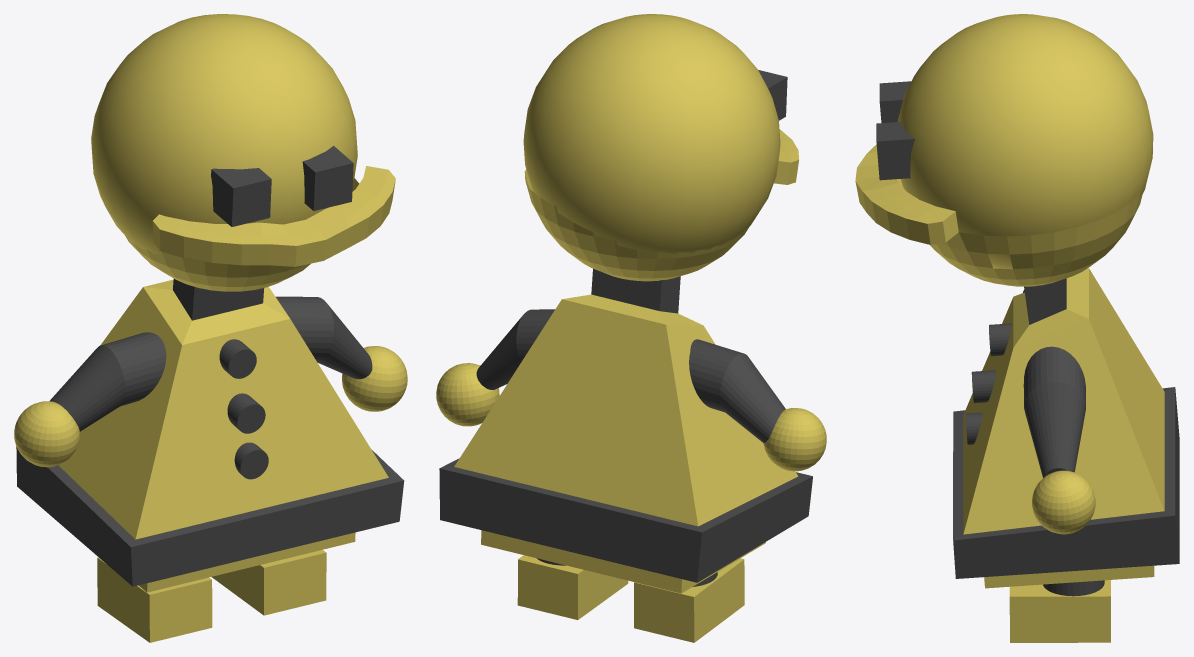
The model's file is characterAnimation.fbx.
3 views of the same model, side by side, from view 1: azimuth 30°, elevation 25°; view 2: azimuth 150°, elevation 25°; view 3: azimuth 270°, elevation 25° (orthographic). The views are drawn at different scales.
Parts seen in each view (by area): view 1: Torso, Head, RghtArm, LeftArm, RIghtLeg, LeftLeg; view 2: Torso, Head, RghtArm, RIghtLeg, LeftArm, LeftLeg; view 3: Head, Torso, LeftArm, LeftLeg.
Part boxes in pixels (box(x1,y1,x2,y2)): Torso: box(16, 279, 404, 592); Head: box(91, 14, 395, 291); RghtArm: box(14, 332, 166, 467); LeftArm: box(276, 296, 407, 411); RIghtLeg: box(97, 557, 212, 642); LeftLeg: box(212, 550, 326, 615); Torso: box(439, 268, 812, 593); Head: box(523, 14, 799, 281); RghtArm: box(689, 339, 826, 471); RIghtLeg: box(634, 558, 744, 642); LeftArm: box(436, 309, 554, 426); LeftLeg: box(517, 555, 628, 619); Head: box(855, 14, 1153, 286); Torso: box(953, 268, 1179, 588); LeftArm: box(1023, 346, 1095, 534); LeftLeg: box(1009, 580, 1110, 642).
Bounding box in the file's own units: 8.96 × 12.97 × 6.66.
